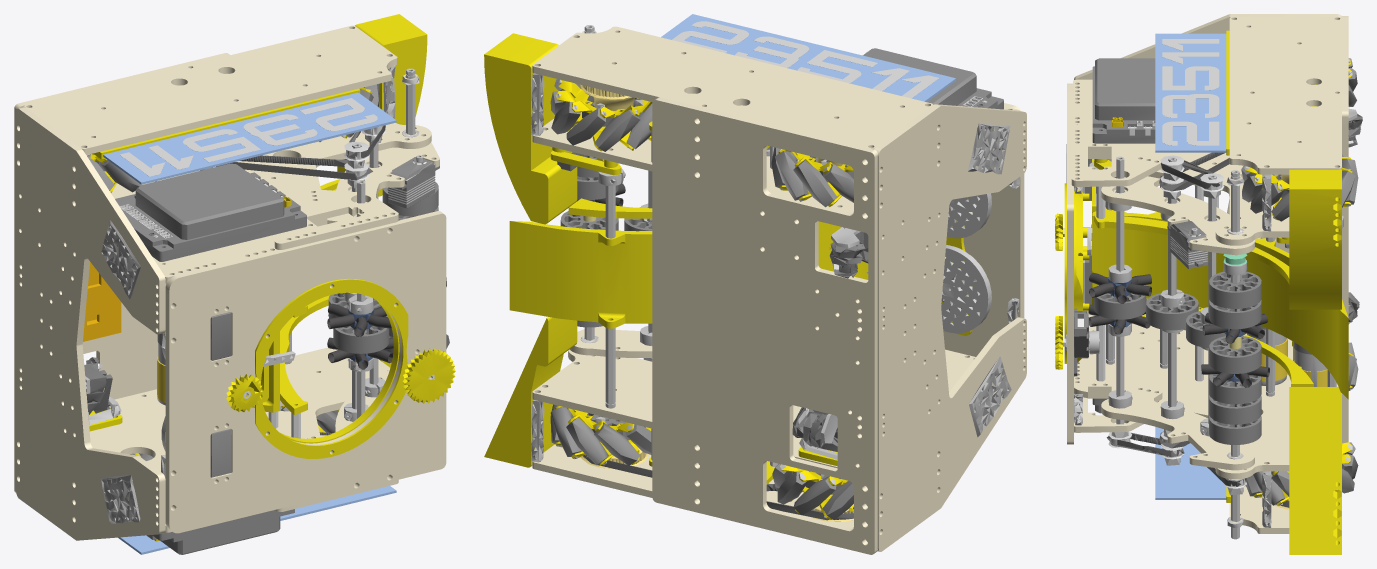
The picture shows the model from 3 angles, left to right: view 1: azimuth 30°, elevation 25°; view 2: azimuth 150°, elevation 25°; view 3: azimuth 270°, elevation 25°; orthographic projection. The views are drawn at different scales.
Visible parts, largest first — view 1: model.glb; view 2: model.glb; view 3: model.glb.
Part boxes in pixels (left/top/right/bottom): model.glb: left=14, top=14, right=455, bottom=554; model.glb: left=484, top=14, right=1026, bottom=554; model.glb: left=1055, top=14, right=1362, bottom=554.
Bounding box in the file's own units: 0.3725 × 0.3634 × 0.2745.
